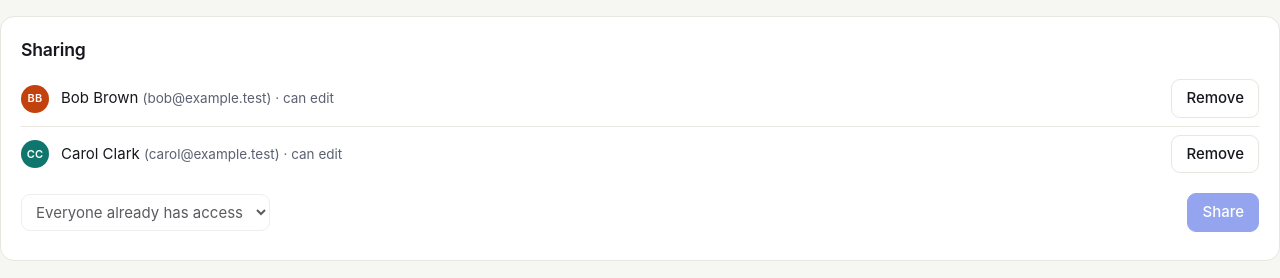
Test case: Ownership and Sharing (UI): share panel › [FR-3.6] Remove revokes that person, confirms it, and makes them selectable again
Step 1. Click the button with aria-label "Remove Bob Brown" → (1215, 99), box [1171,79,1259,118]
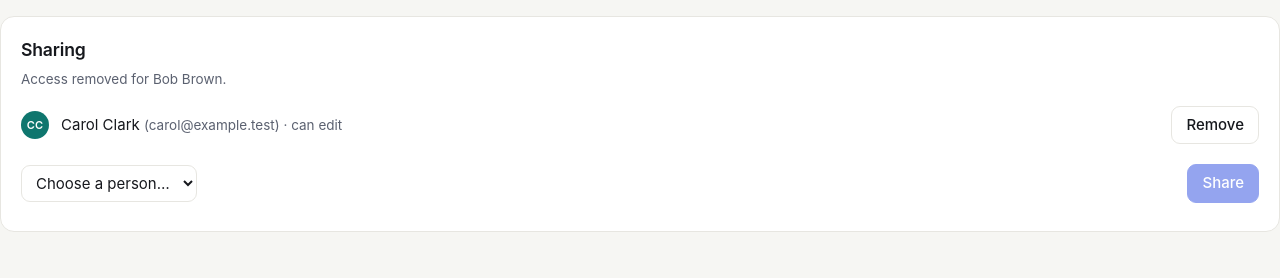
Expected: the text "Carol Clark (carol@example.test) · can edit" is shown, [61,115,342,134]
Now the message with test id "share-notice" reads "Access removed for Bob Brown.", box [21,71,226,87]
